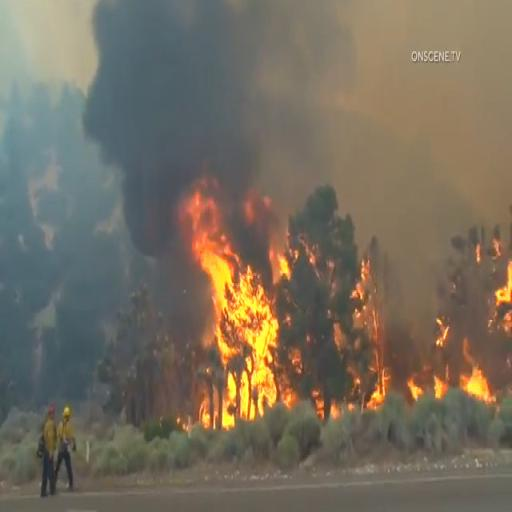fire: (189, 205, 277, 424), (457, 358, 500, 405)
smoke: (93, 7, 354, 160)
